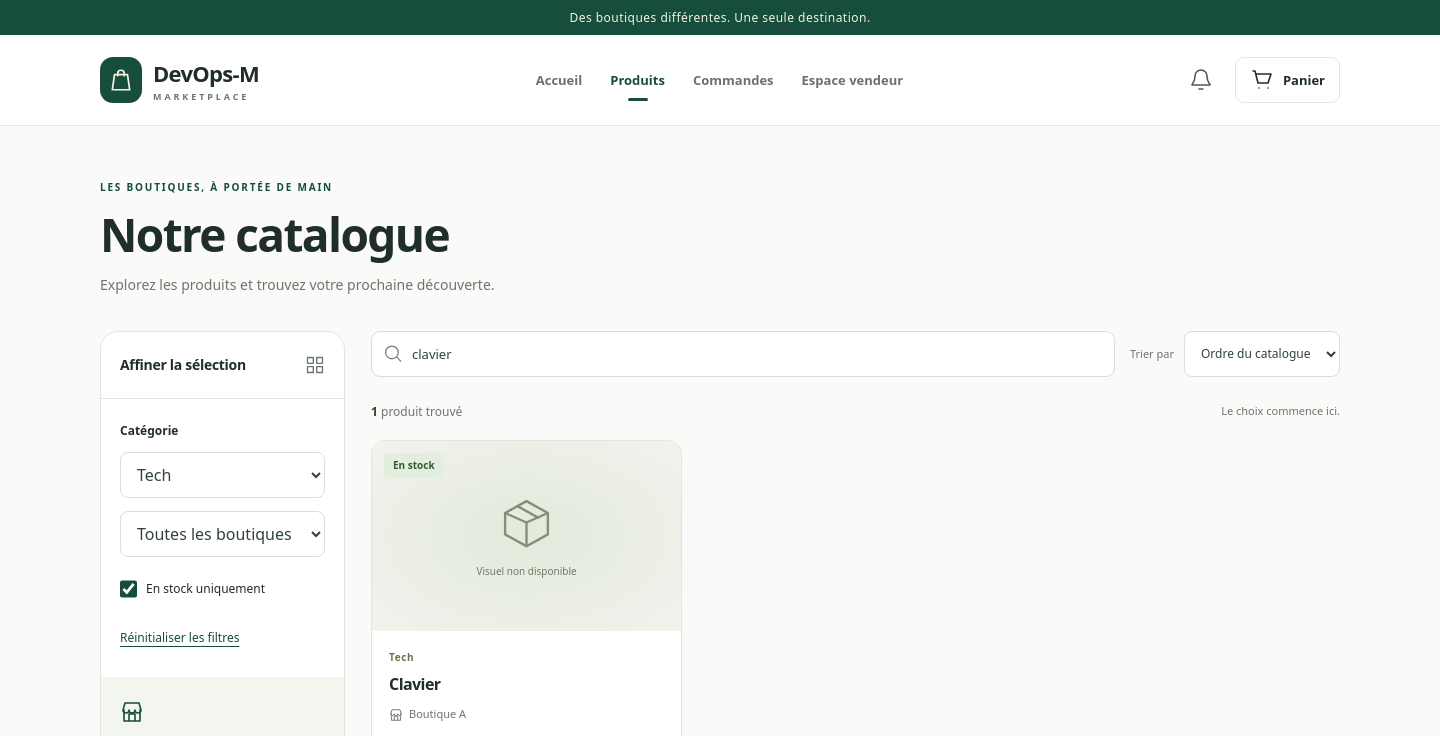
Test: recherche et filtres sont restaures depuis URL
Expected: the heading "Clavier" is shown, [389,673,440,695]
Expected: the checkbox labelled "En stock uniquement" is checked, [120,580,137,598]
Replace the text in the search field with "introuvable": (757, 354) [412,332,1102,376]
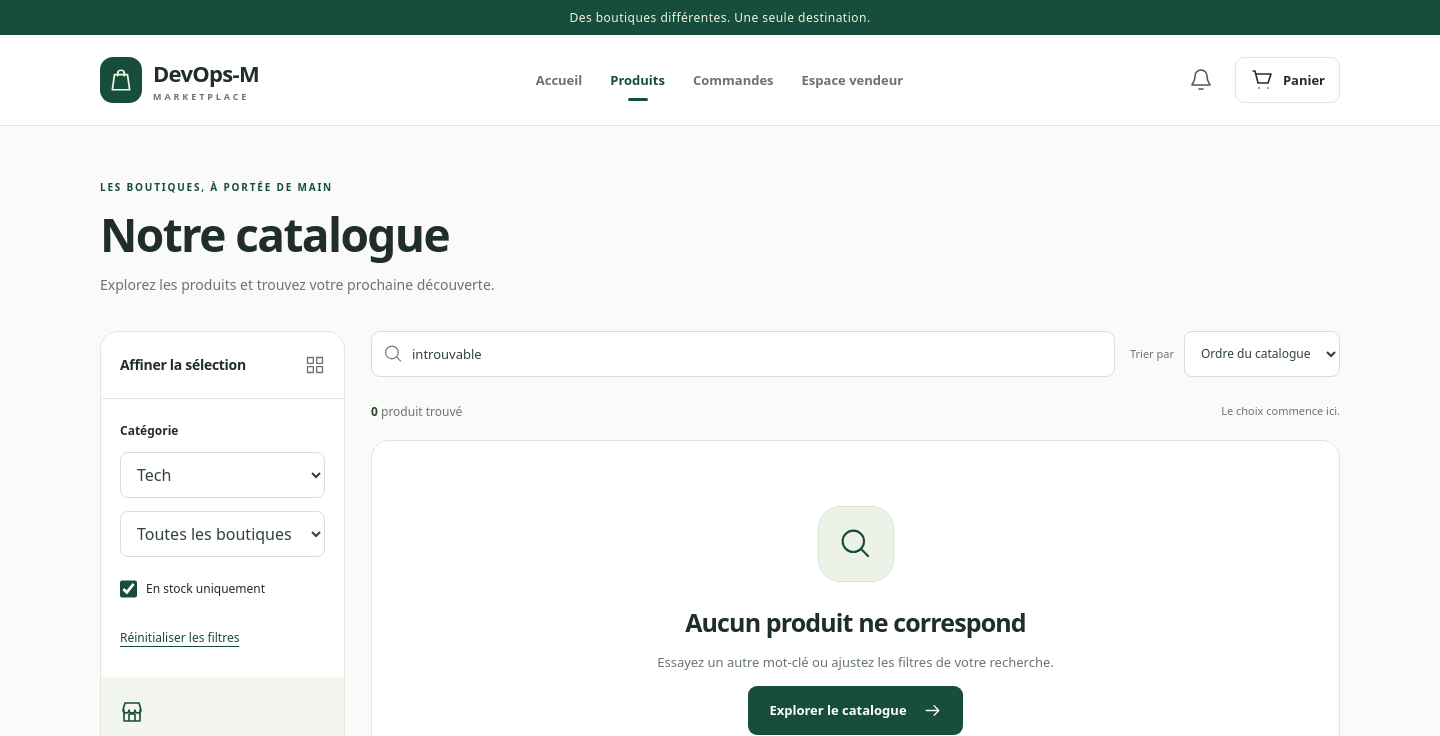
Expected: the heading "Aucun produit ne correspond" is shown, [685,606,1026,639]
